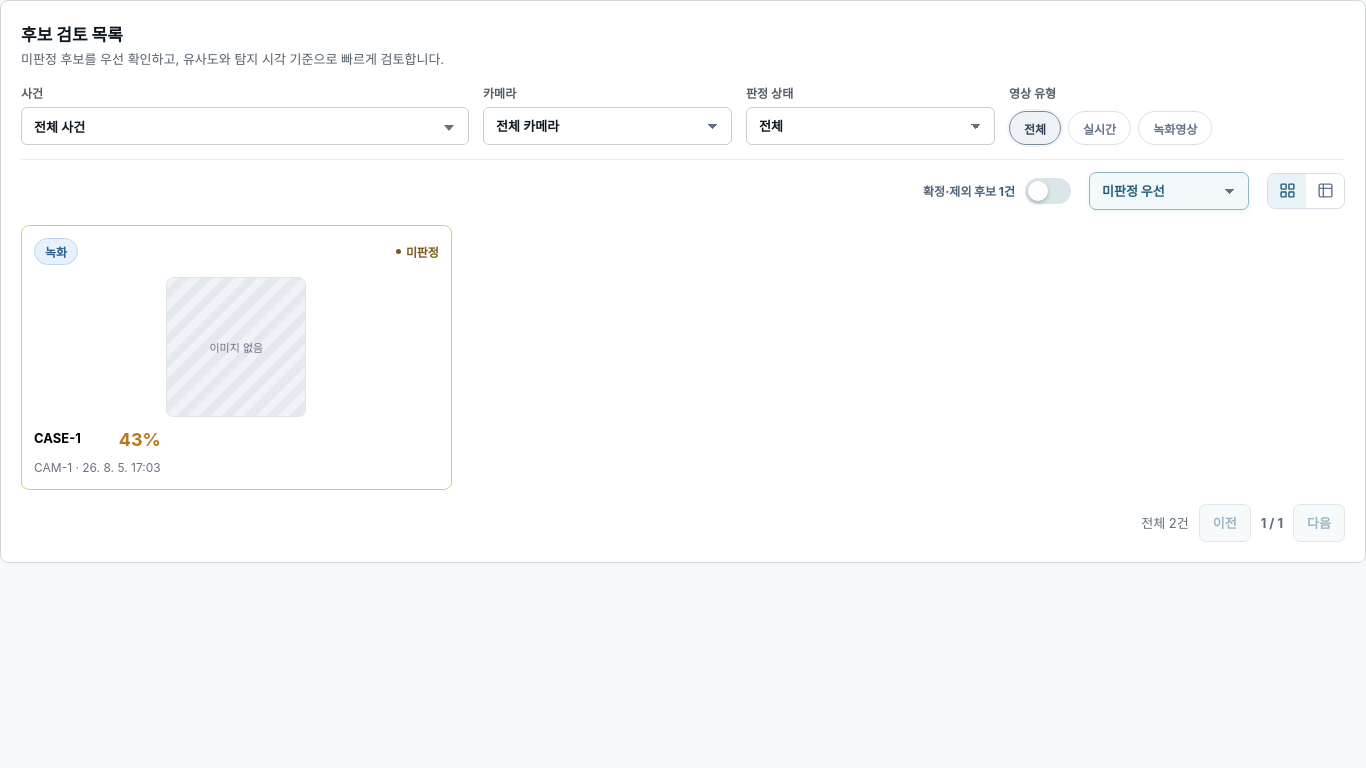
CandidatesView › closes the case picker when clicking outside it
Click the button with class "case-picker-trigger" at coordinates (60, 126), box x1=21 y1=107 x2=469 y2=145
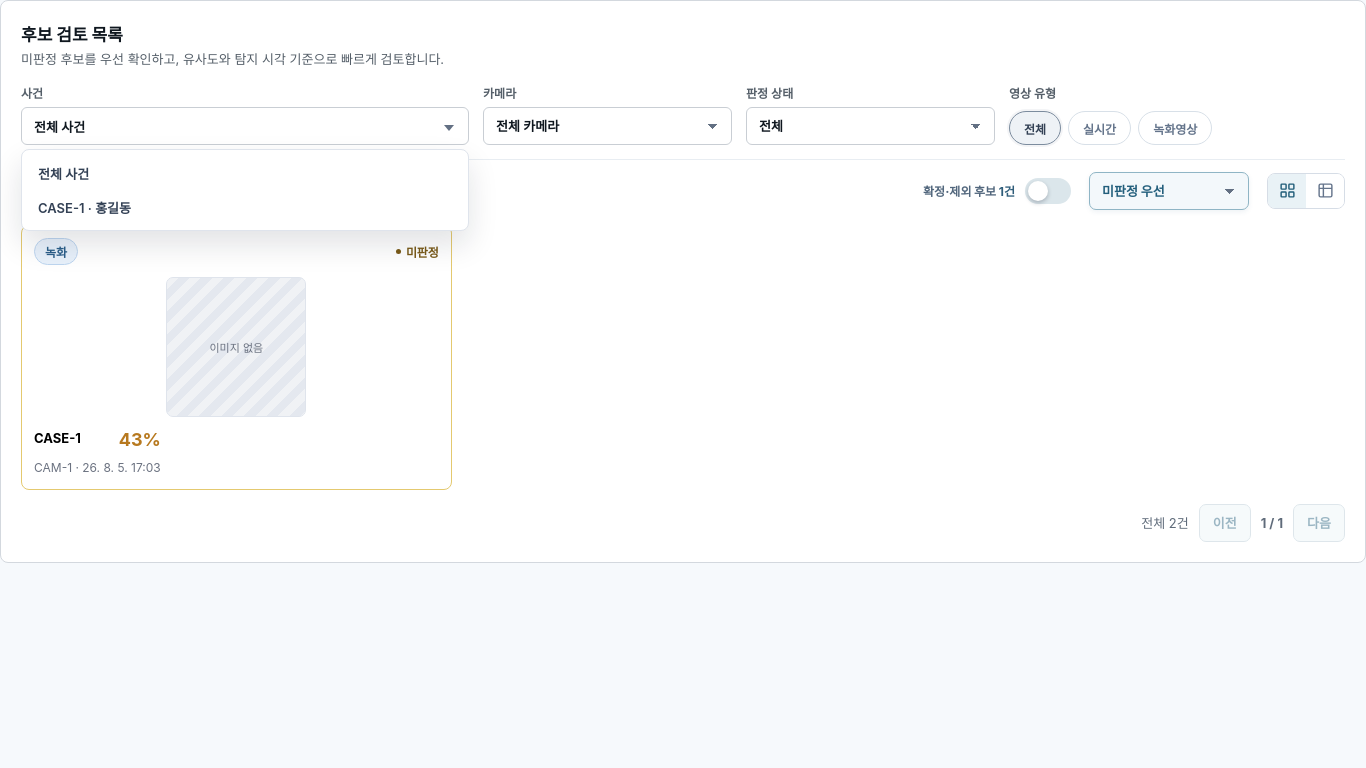
Check: the element with class "case-picker-menu" is shown, box x1=21 y1=149 x2=469 y2=231
Click the element that starts with "후보 검토 목록" at coordinates (683, 281), box x1=0 y1=0 x2=1365 y2=563
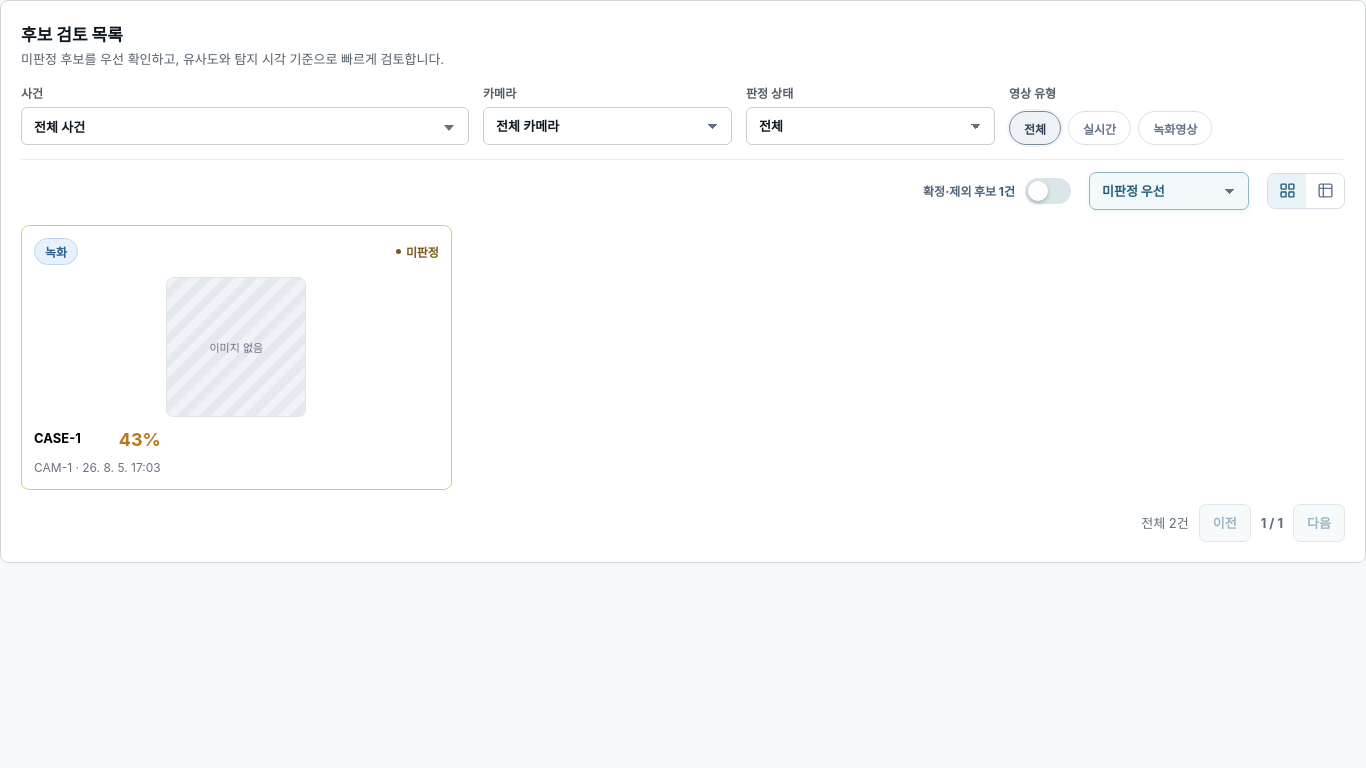
Check: the element with class "case-picker-menu" is gone
